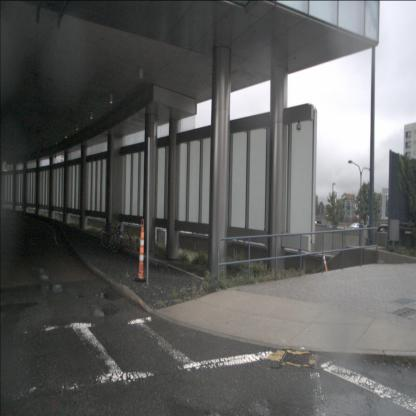cone: (134, 219, 147, 283), (323, 255, 330, 280)
